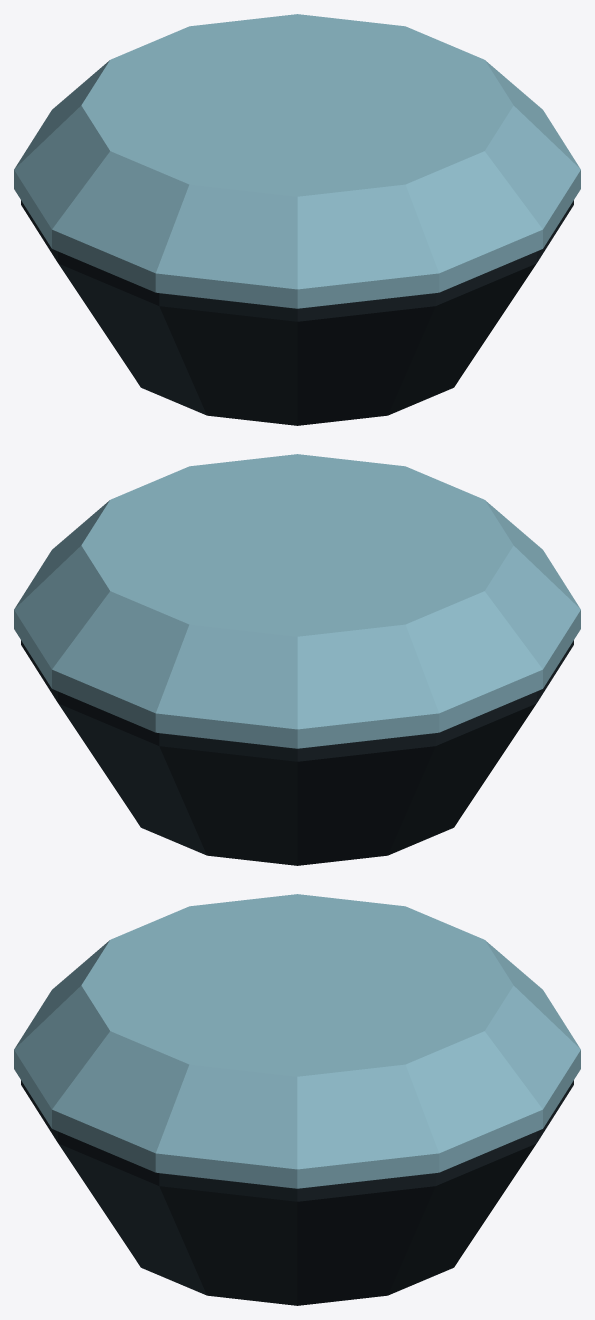
The model's file is b16_lidded_salad_bowl.glb.
3 views of the same model, one above another, from view 1: azimuth 30°, elevation 25°; view 2: azimuth 150°, elevation 25°; view 3: azimuth 270°, elevation 25° (orthographic).
Parts seen in each view (by area): view 1: b16_lidded_salad_bowl; view 2: b16_lidded_salad_bowl; view 3: b16_lidded_salad_bowl.
Boxes of the visible parts, x1,y1,x2,y2 form: b16_lidded_salad_bowl: [14, 14, 580, 425]; b16_lidded_salad_bowl: [14, 454, 580, 865]; b16_lidded_salad_bowl: [14, 894, 580, 1305].
Size of the model in its own units: 0.16 by 0.076 by 0.16.
